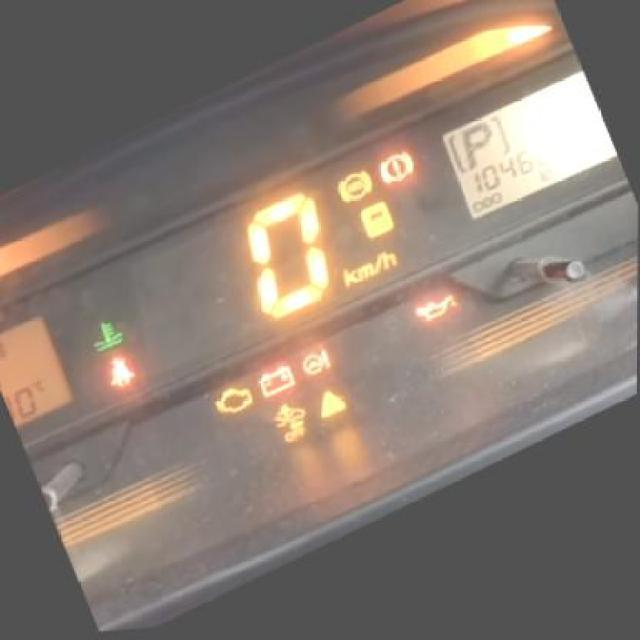High Engine Coolant Temperature: (86, 314, 126, 357)
Seat Belt: (103, 353, 137, 392)
